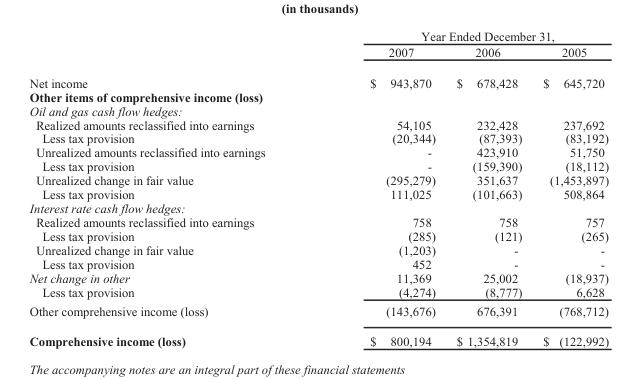table: (28, 29, 608, 347)
table column: (28, 29, 316, 347), (316, 29, 445, 347), (445, 29, 531, 347), (531, 29, 608, 347)
table column header: (28, 29, 608, 67)
table projected row header: (28, 89, 608, 103), (28, 103, 608, 117), (28, 200, 608, 214)
table row: (28, 43, 608, 67), (28, 301, 608, 325), (28, 67, 608, 89), (28, 325, 608, 347), (28, 284, 608, 301), (28, 29, 608, 43), (28, 89, 608, 103), (28, 103, 608, 117), (28, 117, 608, 131), (28, 131, 608, 145), (28, 145, 608, 159), (28, 159, 608, 173), (28, 186, 608, 200), (28, 200, 608, 214), (28, 214, 608, 228), (28, 228, 608, 242), (28, 242, 608, 256), (28, 256, 608, 270), (28, 270, 608, 284), (28, 173, 608, 186)
table spanning cell: (316, 29, 608, 43)
